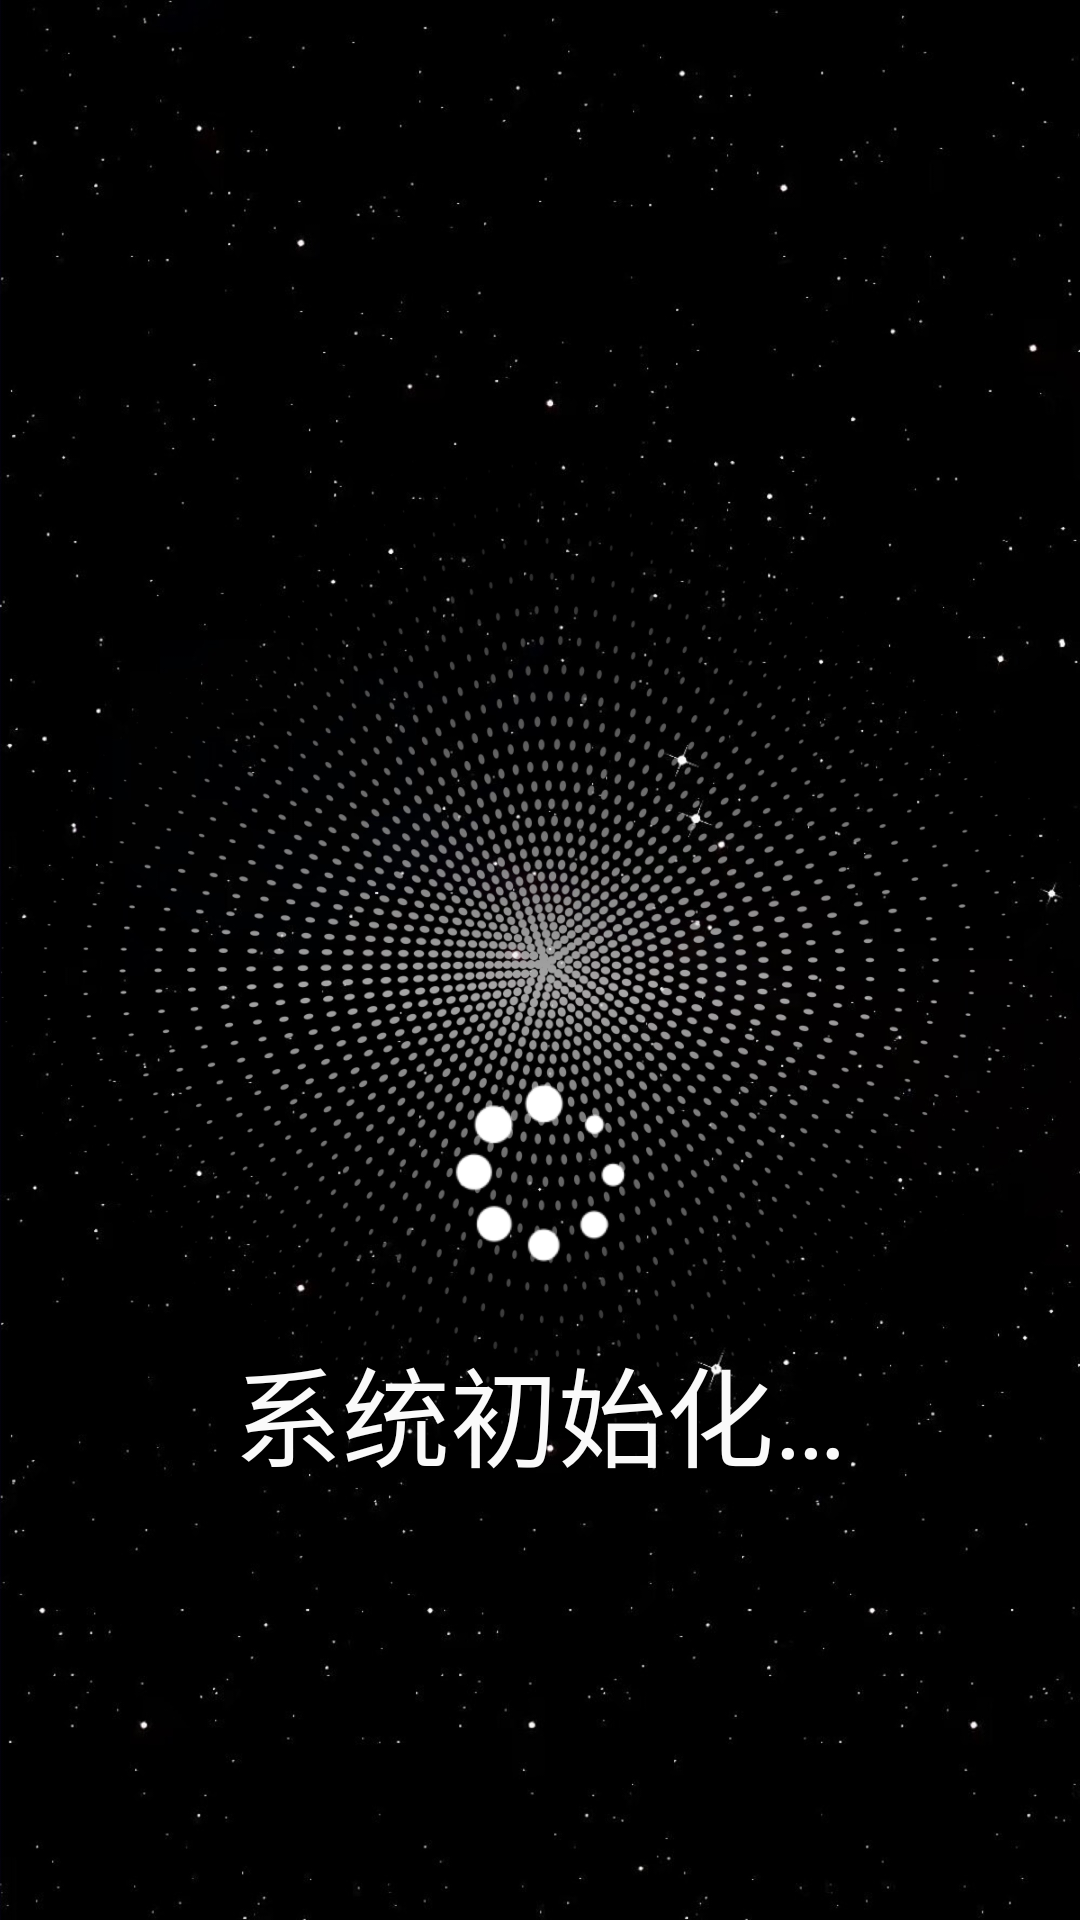

Icons on this 1080 × 1920 Android screen, each with its box as (x1, y1, x2, y2):
loading: (432, 1065, 648, 1281)
